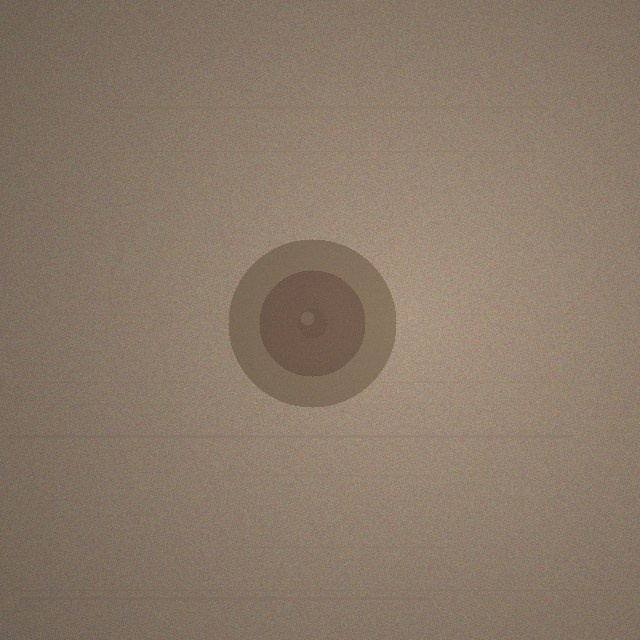good: (228, 239, 396, 407)
